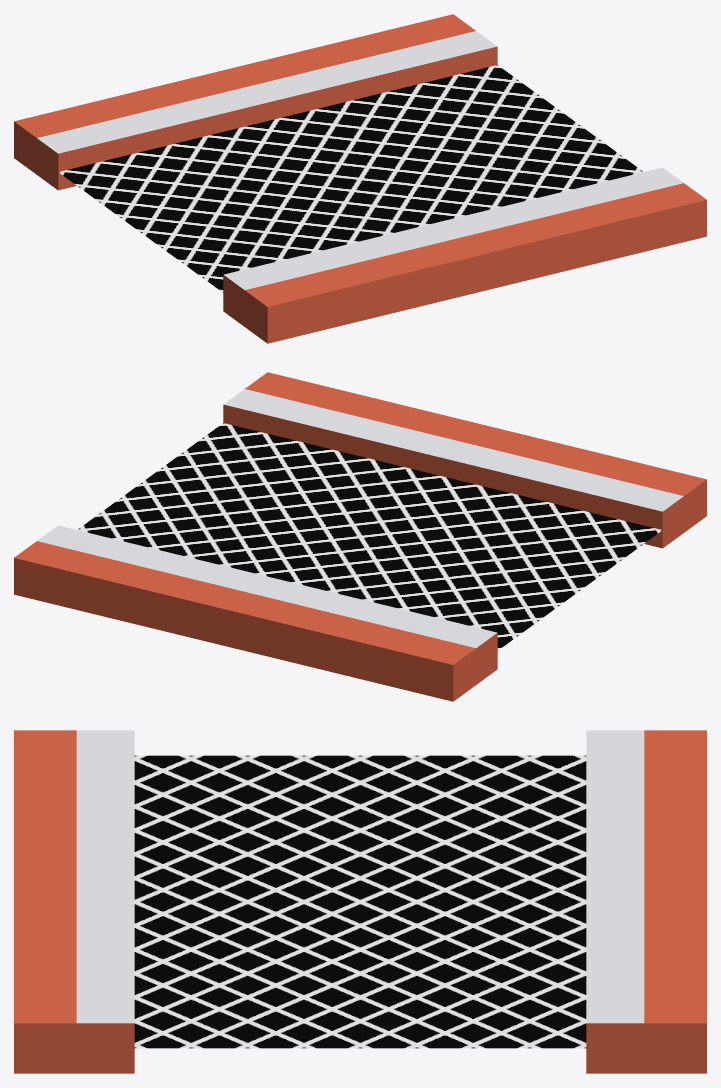
Rendered from metalTileConnectStraight.fbx.
3 renders of one model, top to bottom at view 1: azimuth 30°, elevation 25°; view 2: azimuth 150°, elevation 25°; view 3: azimuth 270°, elevation 25°, orthographic. The views are drawn at different scales.
Visible parts, largest first — view 1: metalTileConnectStraight; view 2: metalTileConnectStraight; view 3: metalTileConnectStraight.
Boxes of the visible parts, x1=… form: metalTileConnectStraight: x1=14, y1=14, x2=706, y2=343; metalTileConnectStraight: x1=14, y1=372, x2=706, y2=701; metalTileConnectStraight: x1=14, y1=730, x2=706, y2=1073.
Bounding box in the file's own units: 10 × 0.8 × 10.
